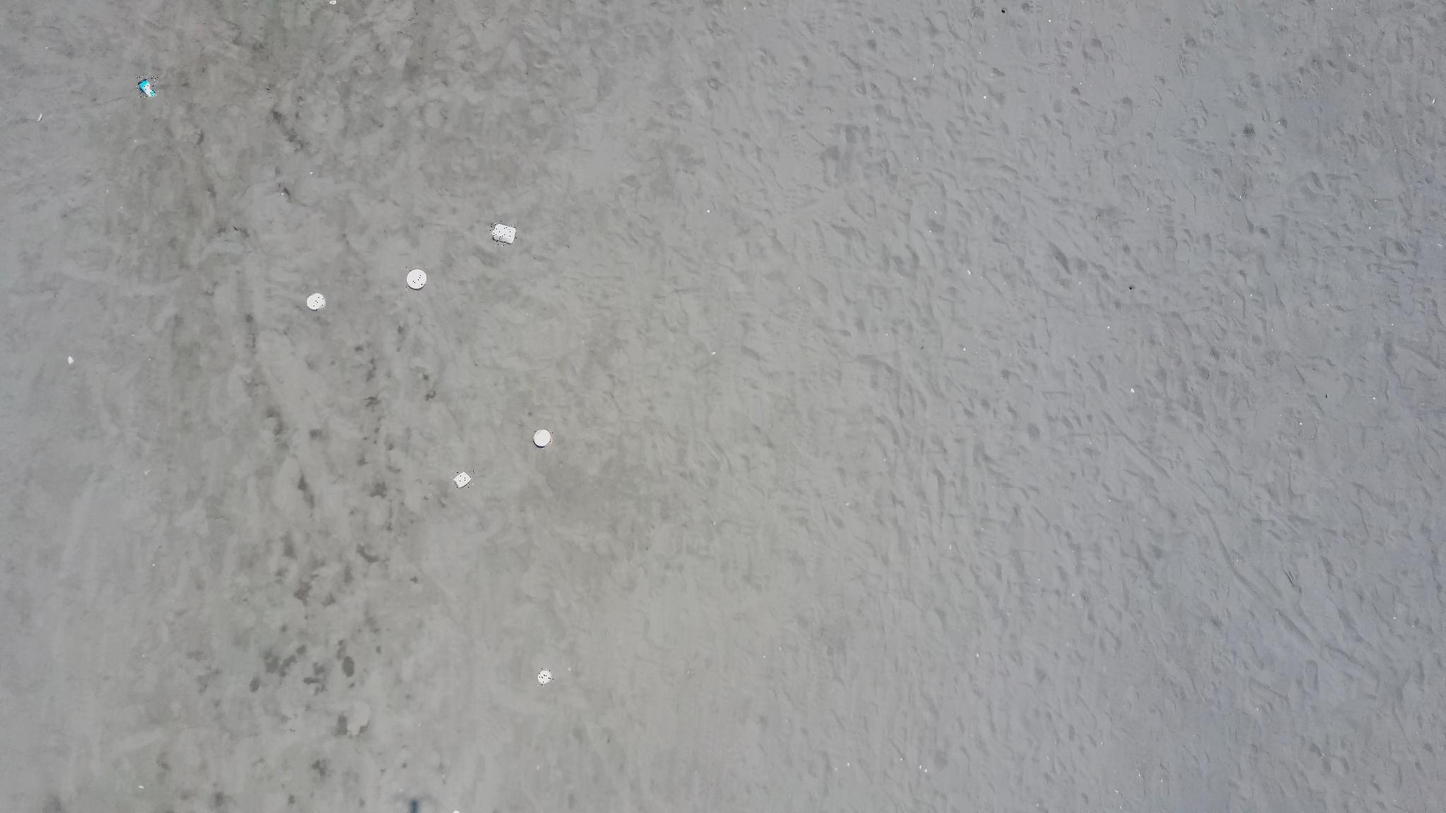Garbage: (491, 223, 514, 243), (405, 269, 425, 289), (306, 292, 325, 310), (532, 430, 551, 447), (138, 77, 154, 96), (453, 471, 470, 488), (537, 669, 552, 684), (68, 356, 72, 364)
